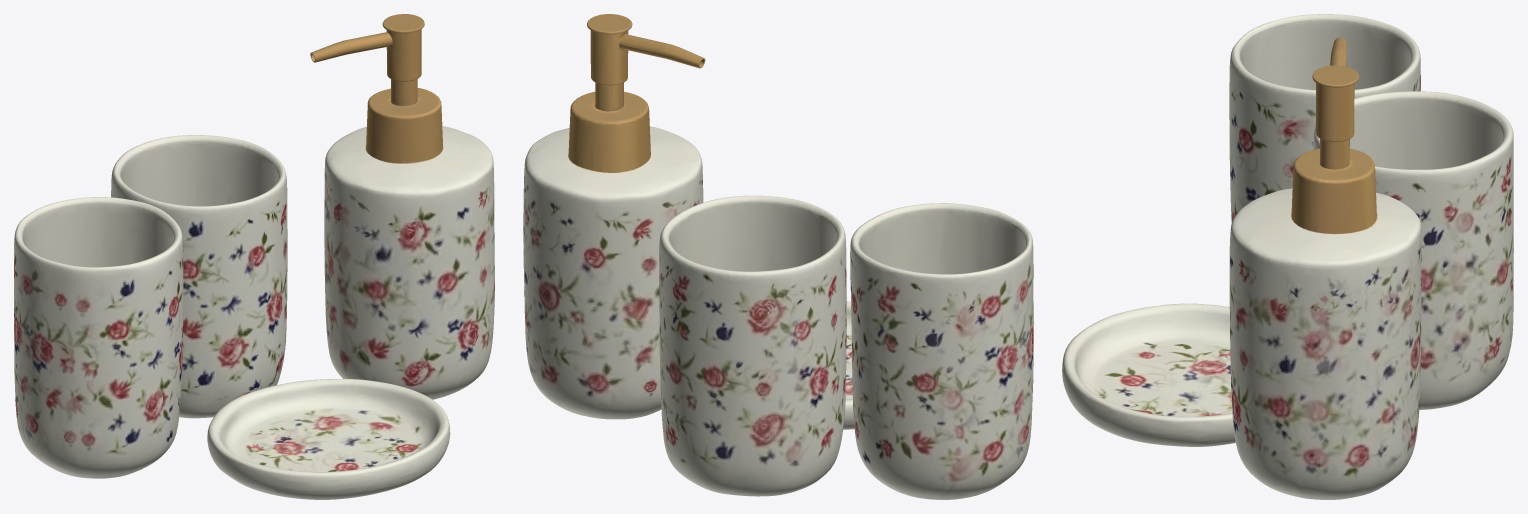
The model's file is the-better-home-soap-dispenser-set-white-ceramic-soap-lotion.glb.
3 renders of one model, left to right at view 1: azimuth 30°, elevation 25°; view 2: azimuth 150°, elevation 25°; view 3: azimuth 270°, elevation 25°, orthographic. The views are drawn at different scales.
Size of the model in its own units: 1.9 by 1.41 by 1.44.
1 material, 1 textured.
